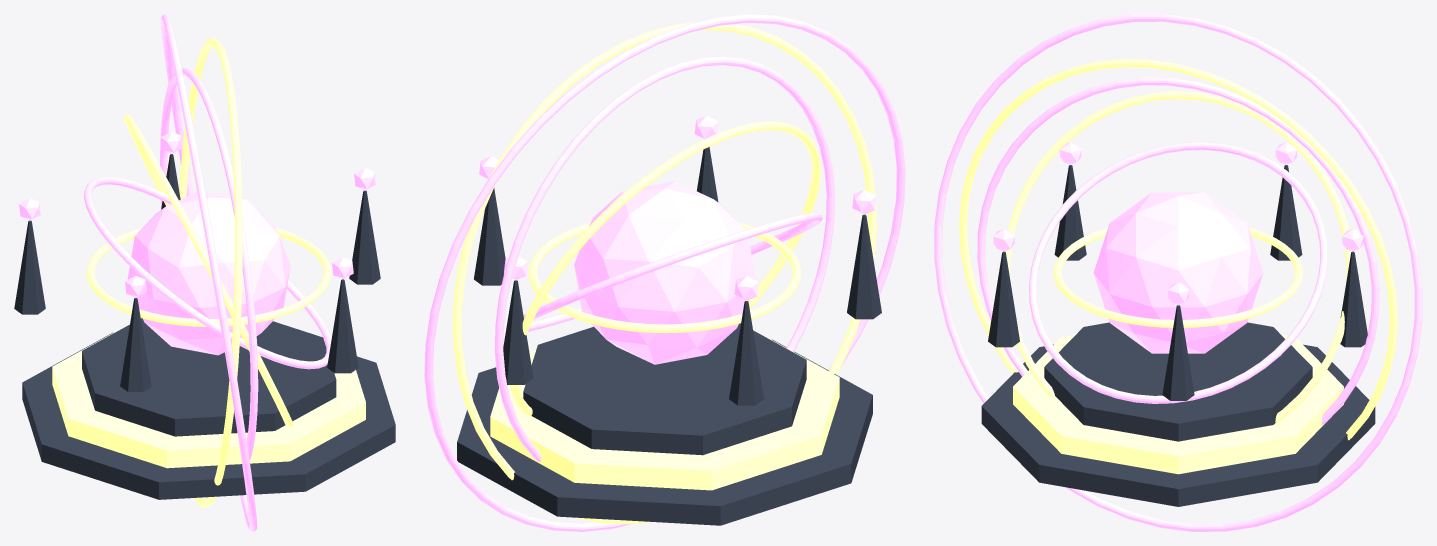
The model's file is gpu-blender-v46.glb.
3 views of the same model, side by side, from view 1: azimuth 30°, elevation 25°; view 2: azimuth 150°, elevation 25°; view 3: azimuth 270°, elevation 25° (orthographic). The views are drawn at different scales.
Visible parts, largest first — view 1: Cylinder.002, Cylinder, SovereignCore_pod-mockup-forge, Cylinder.001, Torus.005, Torus.004, Torus.001, Torus.003, Torus, Torus.002, Cone.004, Cone.002 (+2 smaller); view 2: Cylinder.002, SovereignCore_pod-mockup-forge, Cylinder, Cylinder.001, Torus.005, Torus.003, Torus.004, Torus.002, Torus, Torus.001, Cone.003, Cone.002 (+3 smaller); view 3: SovereignCore_pod-mockup-forge, Cylinder.002, Cylinder, Cylinder.001, Torus.005, Torus.004, Torus.001, Torus.003, Torus.002, Torus, Cone.004, Cone (+3 smaller).
Part boxes in pixels (<box>): Cylinder.002: <box>82,318,336,436</box>; Cylinder: <box>22,332,395,499</box>; SovereignCore_pod-mockup-forge: <box>127,191,290,355</box>; Cylinder.001: <box>52,325,365,468</box>; Torus.005: <box>161,14,257,531</box>; Torus.004: <box>179,38,242,507</box>; Torus.001: <box>84,176,331,369</box>; Torus.003: <box>160,68,258,459</box>; Torus: <box>86,227,331,326</box>; Torus.002: <box>124,114,293,426</box>; Cone.004: <box>327,279,358,373</box>; Cone.002: <box>14,220,45,314</box>; Cylinder.002: <box>523,323,806,455</box>; SovereignCore_pod-mockup-forge: <box>574,181,755,364</box>; Cylinder: <box>457,339,872,525</box>; Cylinder.001: <box>490,330,839,490</box>; Torus.005: <box>424,14,905,531</box>; Torus.003: <box>494,56,835,461</box>; Torus.004: <box>453,22,876,524</box>; Torus.002: <box>510,121,820,416</box>; Torus: <box>528,222,801,333</box>; Torus.001: <box>523,212,822,331</box>; Cone.003: <box>847,214,881,319</box>; Cone.002: <box>729,301,763,405</box>; SovereignCore_pod-mockup-forge: <box>1093,192,1263,353</box>; Cylinder.002: <box>1044,322,1312,441</box>; Cylinder: <box>981,344,1375,506</box>; Cylinder.001: <box>1013,334,1343,474</box>; Torus.005: <box>934,14,1422,531</box>; Torus.004: <box>959,59,1397,440</box>; Torus.001: <box>1029,142,1327,403</box>; Torus.003: <box>977,77,1379,424</box>; Torus.002: <box>1004,91,1352,423</box>; Torus: <box>1053,227,1303,327</box>; Cone.004: <box>988,251,1019,347</box>; Cone: <box>1162,305,1194,400</box>.
Bounding box in the file's own units: 4.41 × 5.93 × 5.46.
